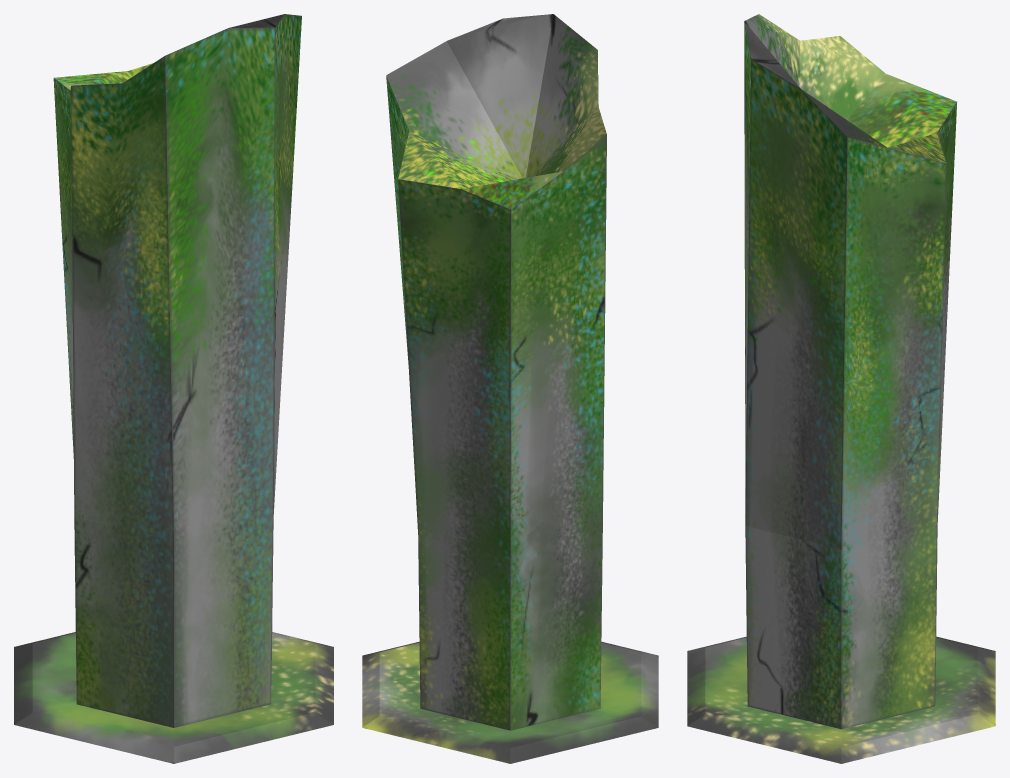
Rendered from brokenPillar.fbx.
3 renders of one model, left to right at view 1: azimuth 30°, elevation 25°; view 2: azimuth 150°, elevation 25°; view 3: azimuth 270°, elevation 25°, orthographic. The views are drawn at different scales.
Visible parts, largest first — view 1: pCylinder6; view 2: pCylinder6; view 3: pCylinder6.
Boxes of the visible parts, bbox=[...] form: pCylinder6: bbox=[14, 14, 333, 763]; pCylinder6: bbox=[362, 14, 658, 763]; pCylinder6: bbox=[687, 14, 995, 763].
Bounding box in the file's own units: 3.85 × 8.09 × 3.34.
